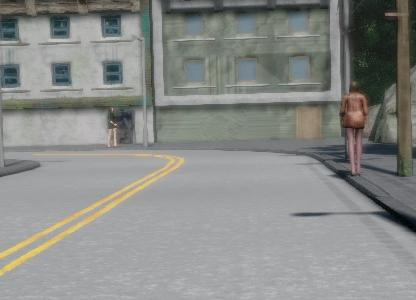Speed_60: (319, 65, 375, 124)
